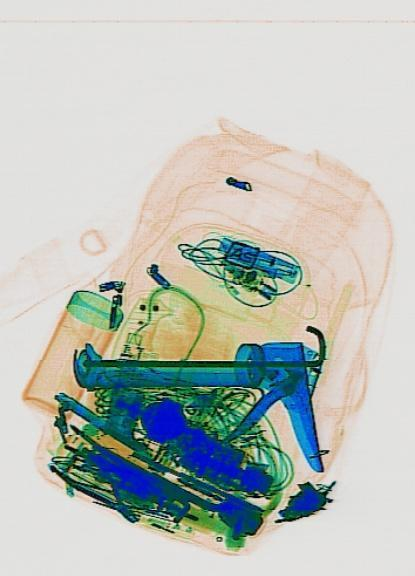Pliers: (49, 429, 148, 537)
